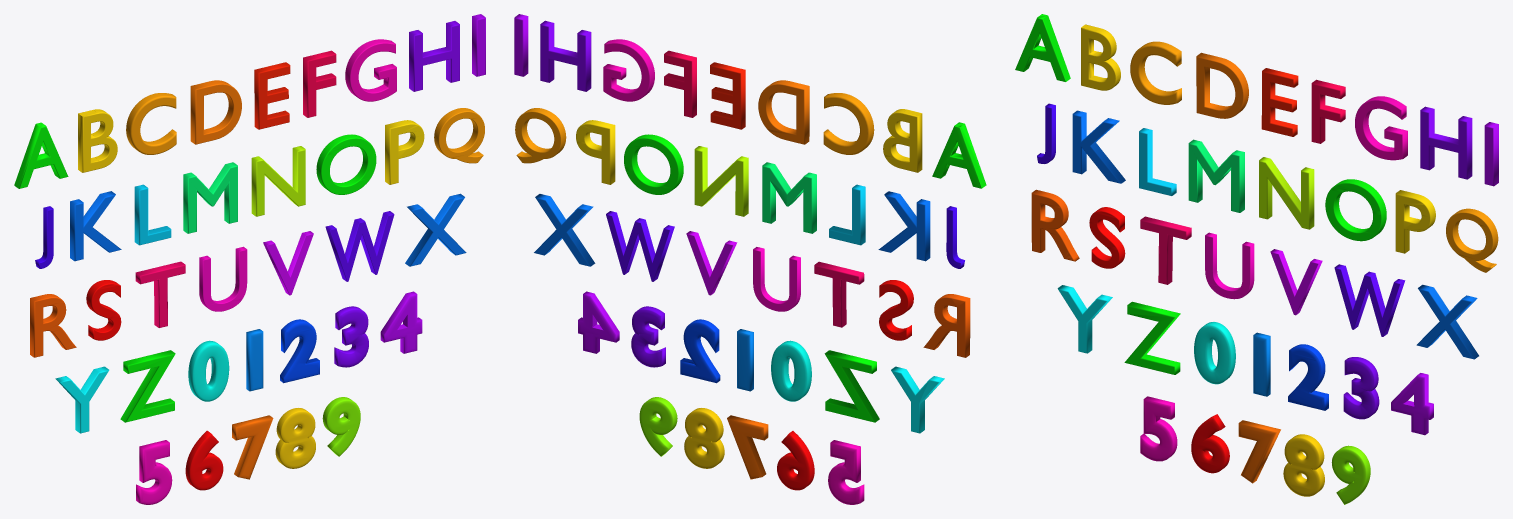
The model's file is alphabet-pack.fbx.
3 renders of one model, left to right at view 1: azimuth 30°, elevation 25°; view 2: azimuth 150°, elevation 25°; view 3: azimuth 330°, elevation 25°, orthographic. The views are drawn at different scales.
Visible parts, largest first — view 1: MM, WW, ZZ, NN, DD, 8, HH, OO, GG, 0, BB, XX (+24 smaller); view 2: MM, WW, HH, ZZ, NN, DD, 8, OO, GG, BB, 0, KK (+24 smaller); view 3: NN, MM, WW, HH, 8, DD, OO, GG, RR, 0, KK, BB (+24 smaller).
Part boxes in pixels (x1,y1,x2,y2): MM: (183,162,237,233); WW: (325,211,394,281); ZZ: (120,350,175,422); NN: (251,146,305,216); DD: (190,80,241,144); 8: (275,408,315,468); HH: (409,21,459,91); OO: (316,134,376,194); GG: (345,39,396,101); 0: (188,340,229,401); BB: (78,109,117,172); XX: (405,193,466,266); MM: (762,162,816,233); WW: (606,211,674,281); HH: (540,20,591,91); ZZ: (824,350,879,422); NN: (694,146,748,216); DD: (758,80,809,144); 8: (684,408,724,468); OO: (624,134,683,194); GG: (603,39,654,101); BB: (883,109,922,172); 0: (771,340,811,401); KK: (878,191,930,261); NN: (1259,157,1314,229); MM: (1188,139,1244,212); WW: (1334,264,1405,336); HH: (1420,106,1472,179); 8: (1283,434,1324,496); DD: (1196,52,1248,118); OO: (1325,179,1386,241); GG: (1355,96,1407,160); RR: (1031,189,1079,261); 0: (1194,322,1235,384); KK: (1072,110,1125,183); BB: (1081,24,1120,90).
Size of the model in its own units: 169 by 141 by 3.72.
